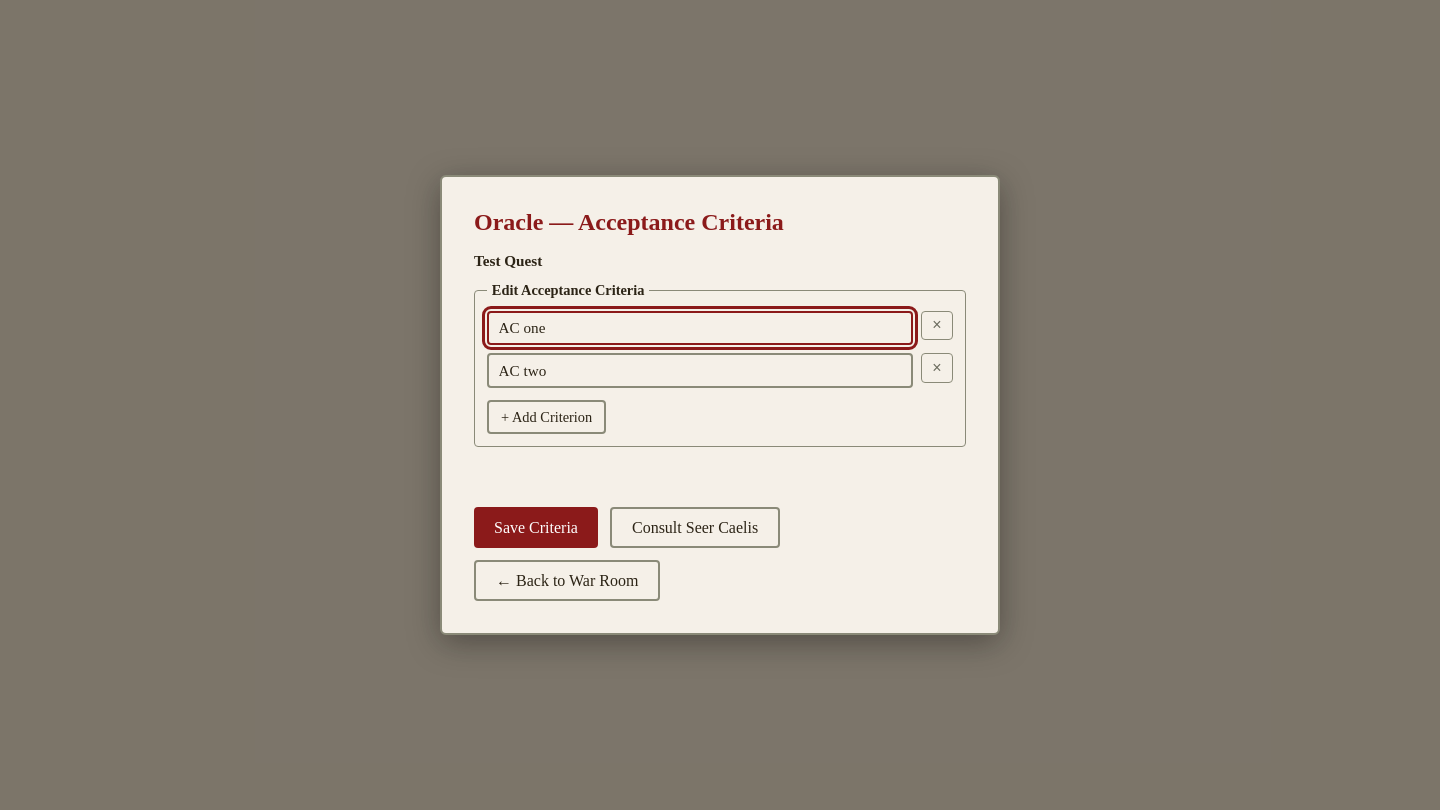
Test: Oracle › adds a new criterion when "+ Add Criterion" is clicked
Expected: the field named "criterion 1" is shown, [487,311,913,345]
What coordinates should you click on to do the following:
click the button "+ Add Criterion"
I would click on:
 (547, 417)
Its box is [487,400,606,434].
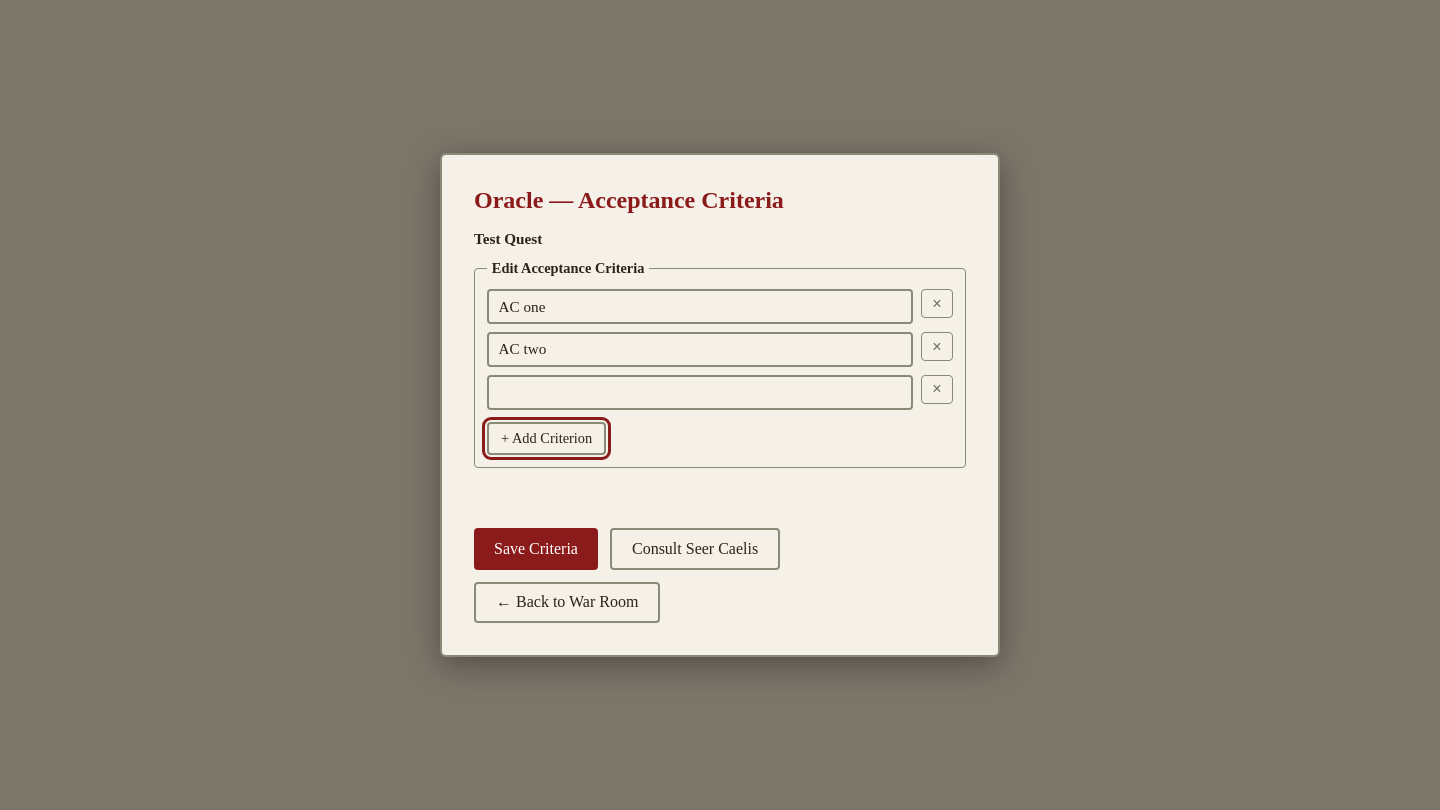
Expected: the field named "criterion 3" is shown, [487,375,913,410]
